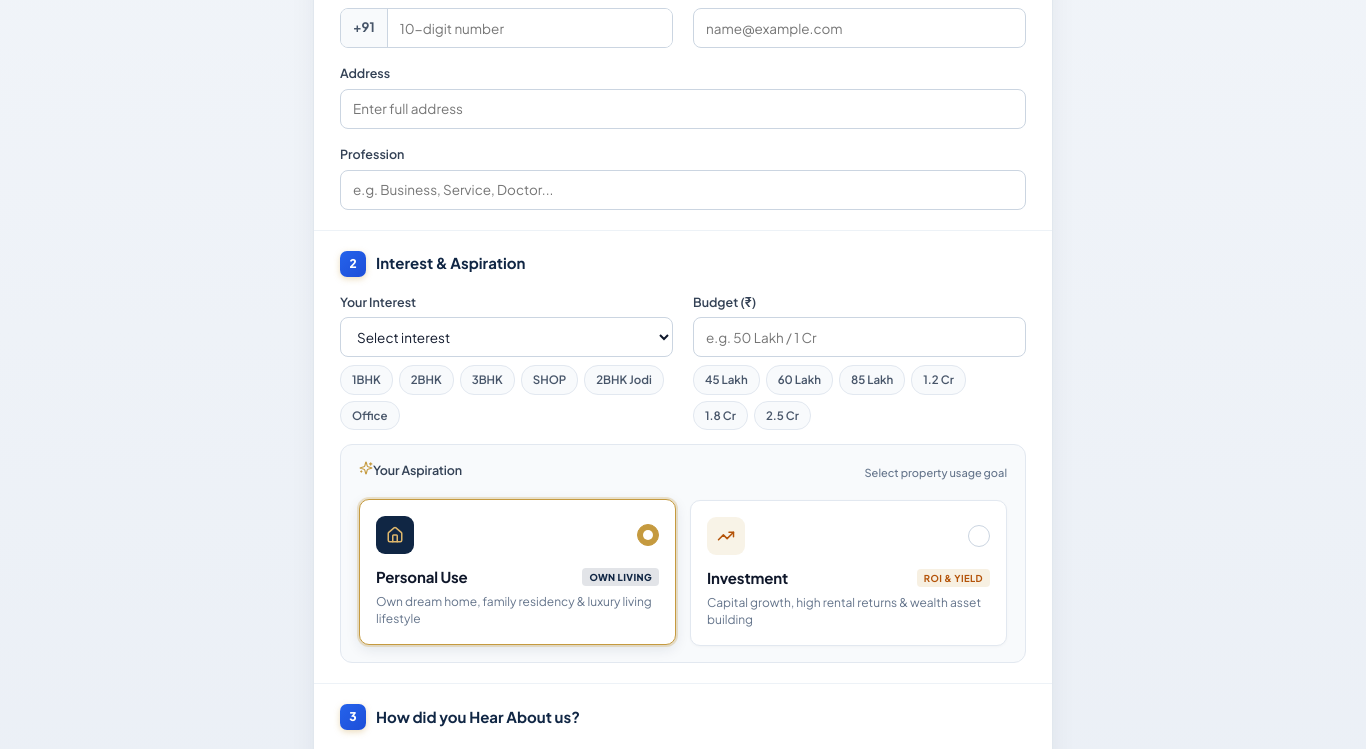
Test: Park Solitaire Client Visit App › Interactive Quick Chips & Mobile Usability › sets property and budget via quick-selection chips in visit form
This screenshot has width=1366, height=749.
(page scrolled)
Note: Click "3BHK" chip
Click the button "3BHK" at (487, 380), box [460,365,515,395]
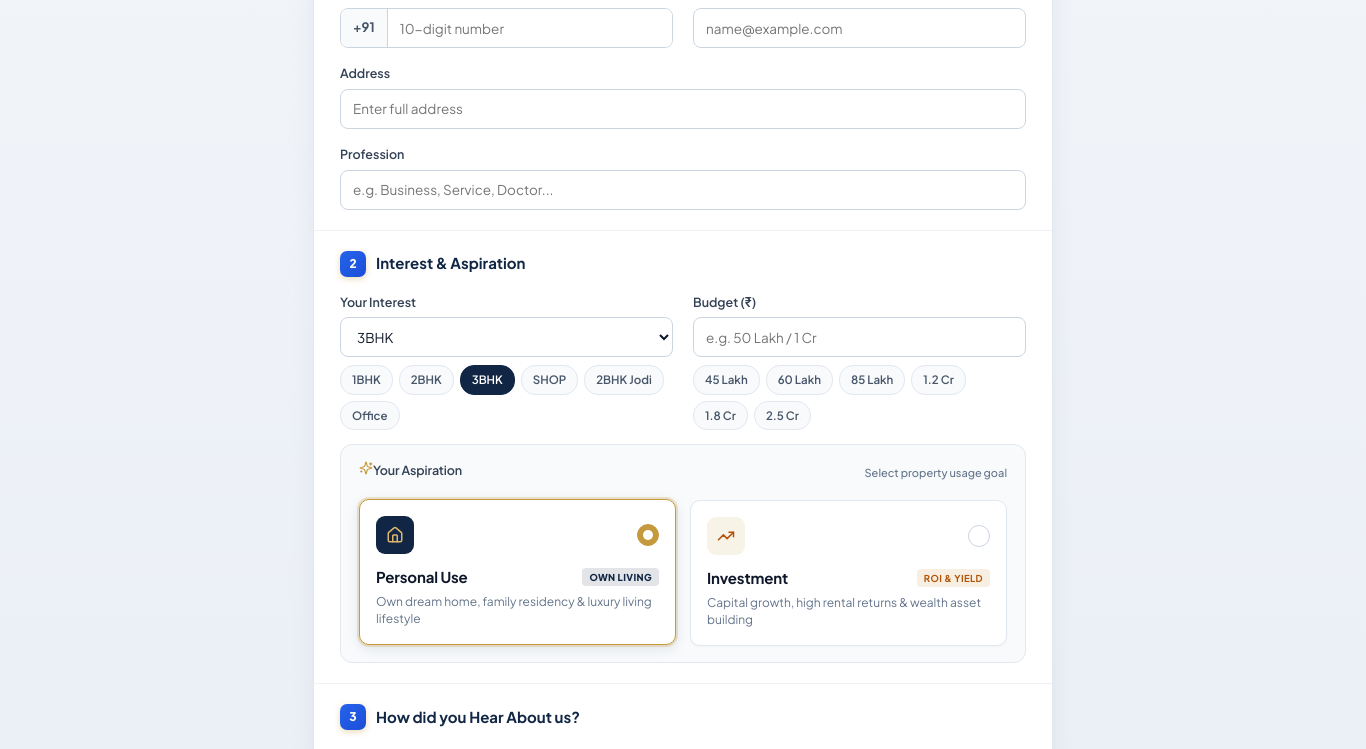
Result: the button "3BHK" has class "active" at [460,365,515,395]
Note: Click "1.2 Cr" budget chip
Click the button "1.2 Cr" at (939, 380), box [911,365,966,395]
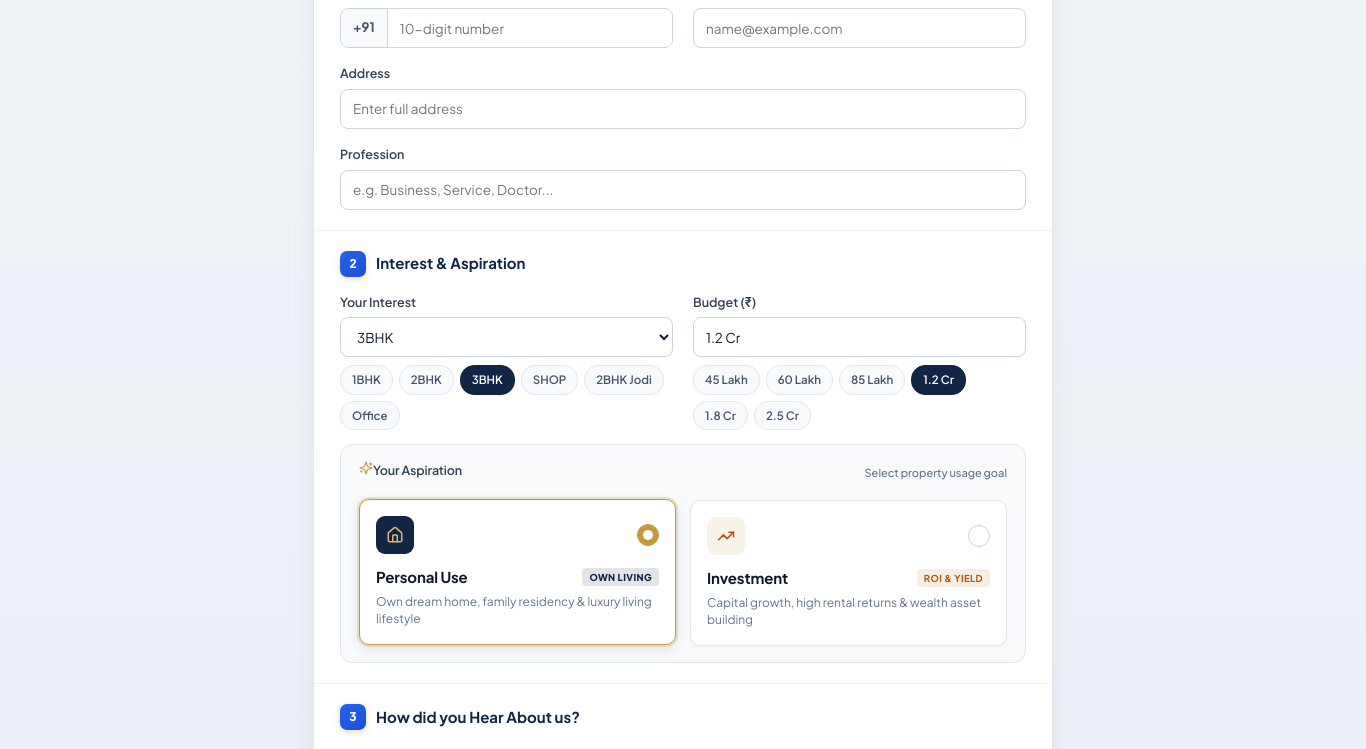
Result: the field with placeholder "e.g. 50 Lakh / 1 Cr" holds "1.2 Cr" at [693,317,1026,357]
